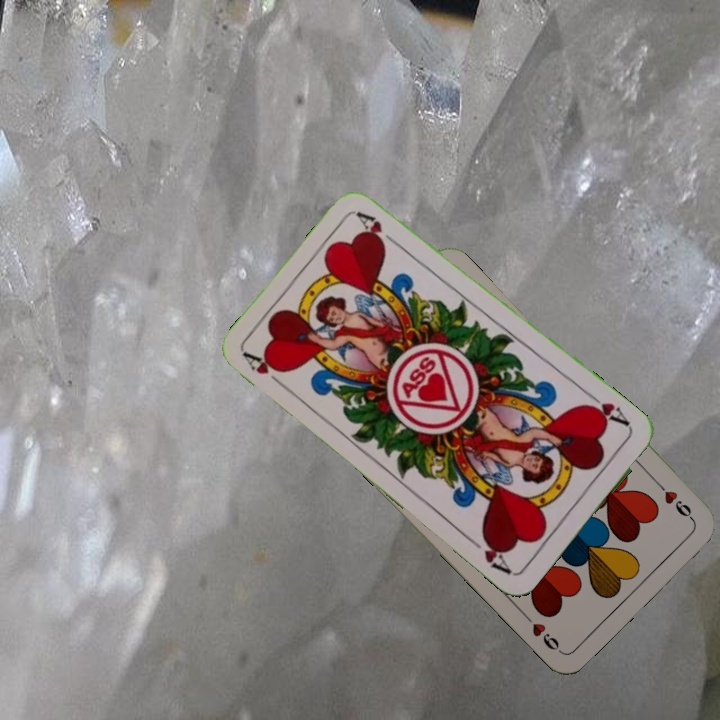H9: (652, 477, 697, 524)
HA: (580, 389, 634, 432), (240, 348, 290, 392)
